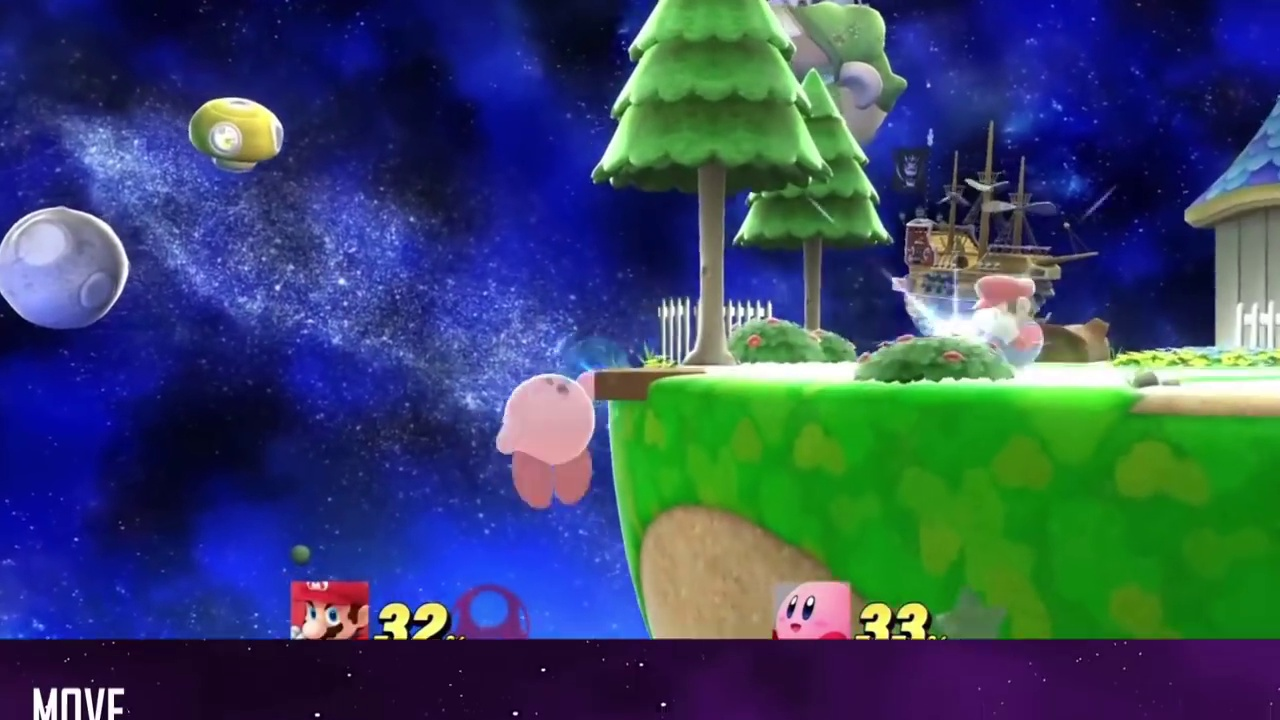Mario: (968, 277, 1046, 367)
